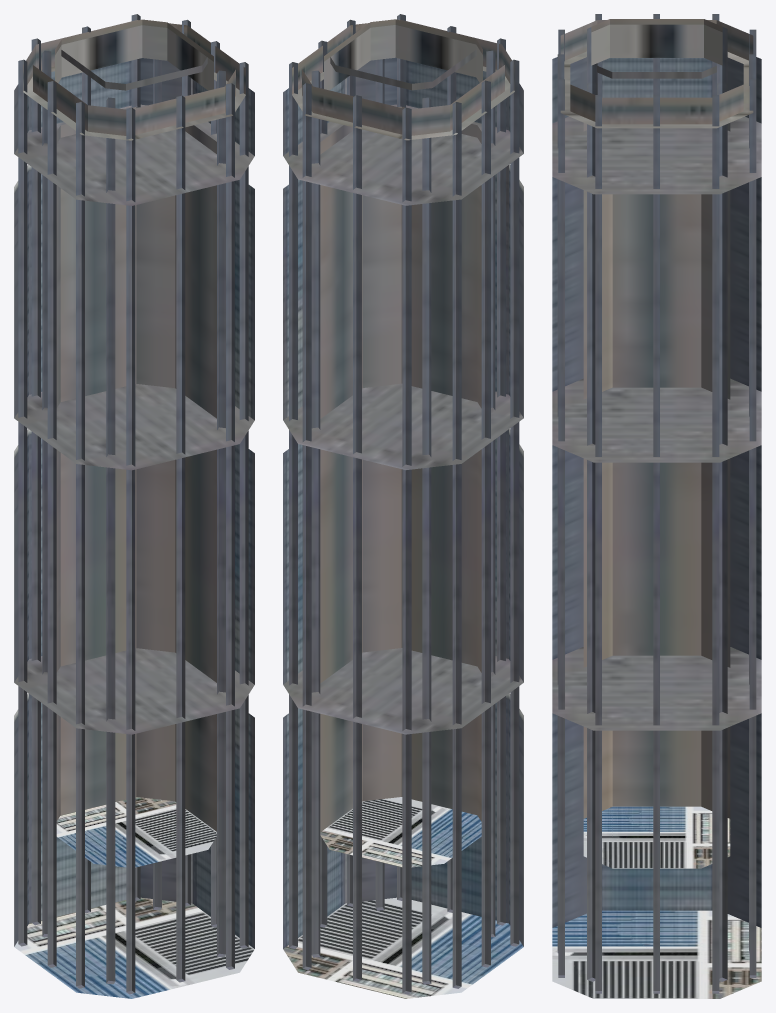
The picture shows the model from 3 angles, left to right: view 1: azimuth 30°, elevation 25°; view 2: azimuth 150°, elevation 25°; view 3: azimuth 270°, elevation 25°; orthographic projection.
Bounding box in the file's own units: 0.3755 × 1.8 × 0.3755.
1 material, 1 textured.
